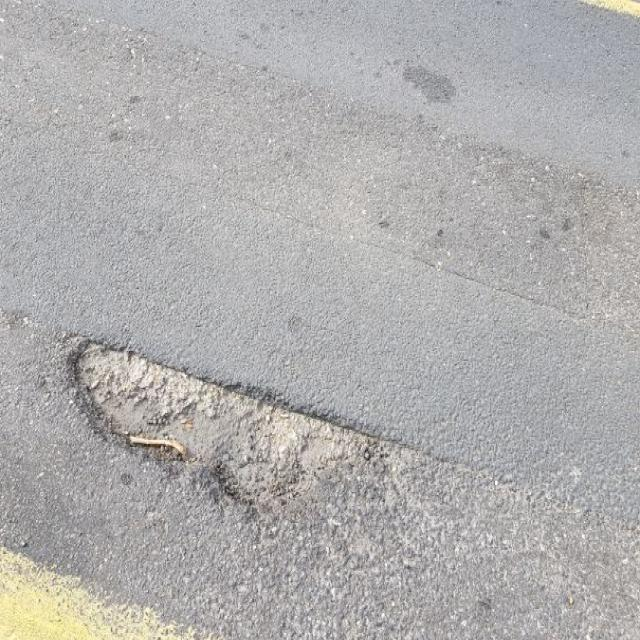Pothole: (67, 335, 396, 513)
